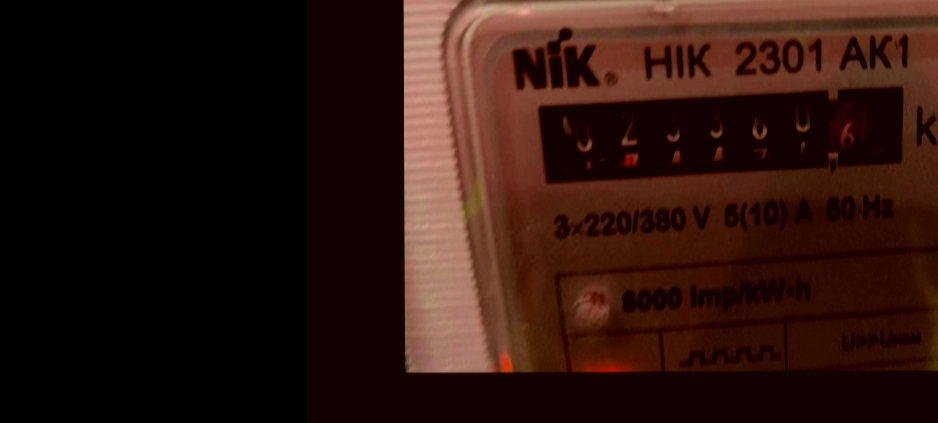0: (570, 113, 595, 156), (790, 98, 813, 135)
2: (614, 107, 640, 147)
3: (661, 105, 682, 145), (703, 103, 725, 141)
6: (745, 103, 771, 144), (837, 116, 858, 153)
screen: (516, 73, 917, 193)
